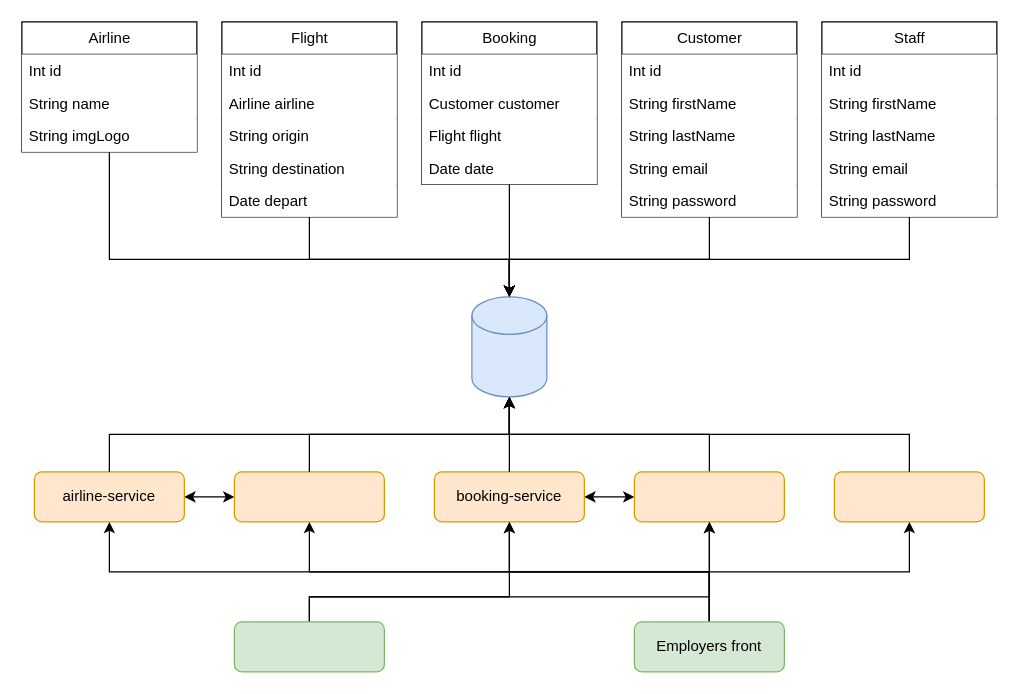
The diagram is 1019 pixels wide and 694 high, and some of its shapes have lost their labels. Here are the shapes that lost their labels. From the top down, the centre of each, then its label:
At (x=509, y=346): "SQL".
At (x=308, y=496): "flight-service".
At (x=708, y=496): "customer-service".
At (x=908, y=496): "staff-service".
At (x=308, y=646): "Customer front".
